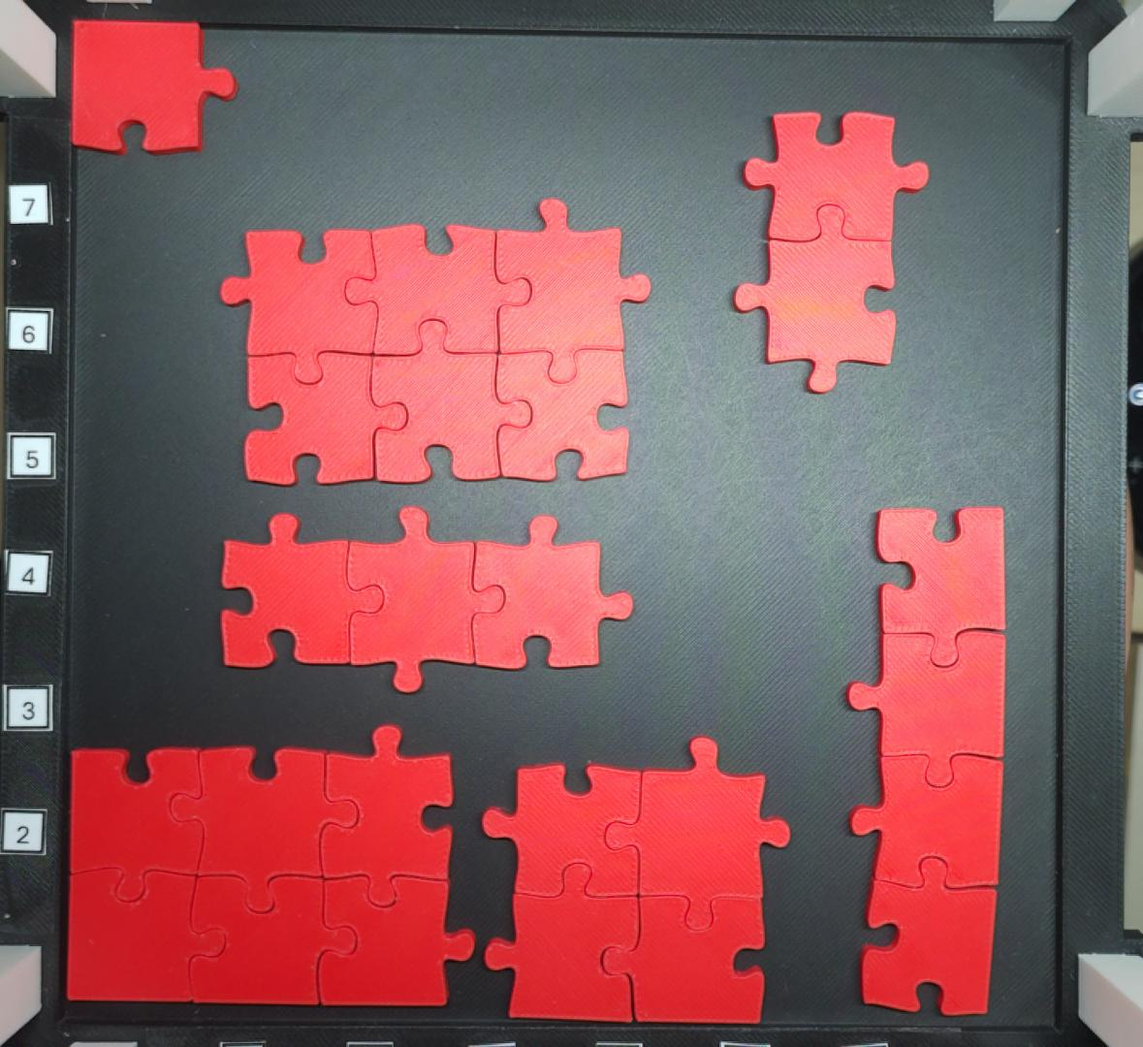p_1: (71, 20, 237, 157)
p_2: (733, 112, 929, 394)
p_3: (221, 506, 632, 693)
p_4: (481, 737, 792, 1024), (844, 503, 1005, 1014)
p_m: (217, 194, 652, 487), (65, 723, 476, 1005)
